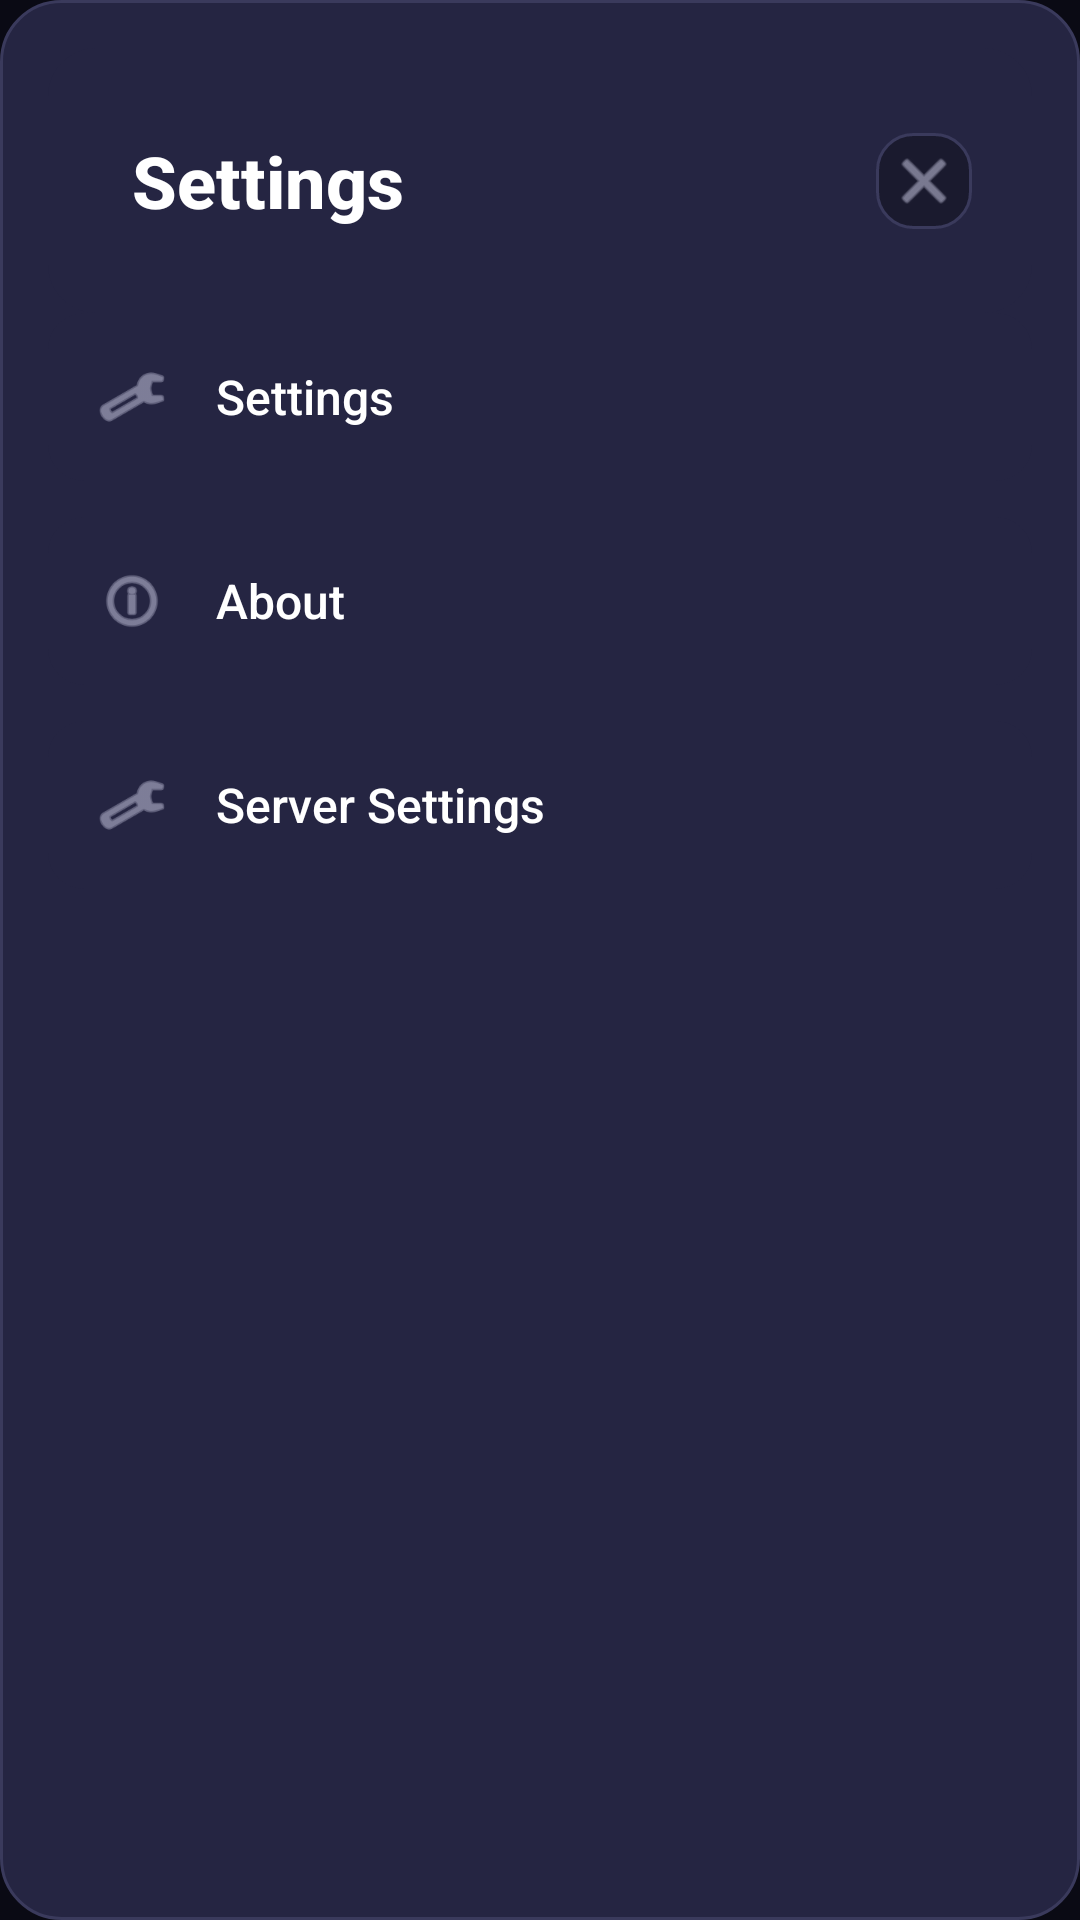

Locate icon controls on the screen. Image size 1080*1920, boxes as (x1, y1, x2, y2).
Close menu: (876, 133, 972, 229)
info details: (106, 575, 158, 627)
preferences: (100, 372, 164, 422), (100, 780, 164, 830)
